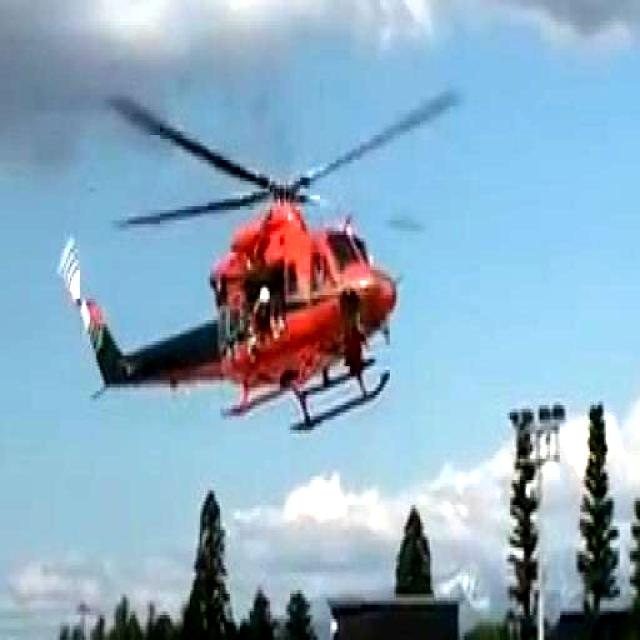drone: (61, 80, 465, 440)
